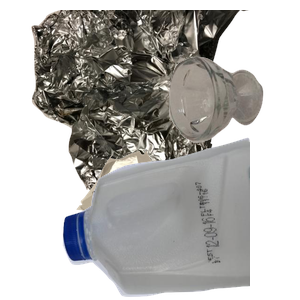glass: (166, 54, 300, 189)
metal: (29, 10, 269, 190)
plastic: (60, 135, 300, 300)
trash: (74, 148, 273, 300)
